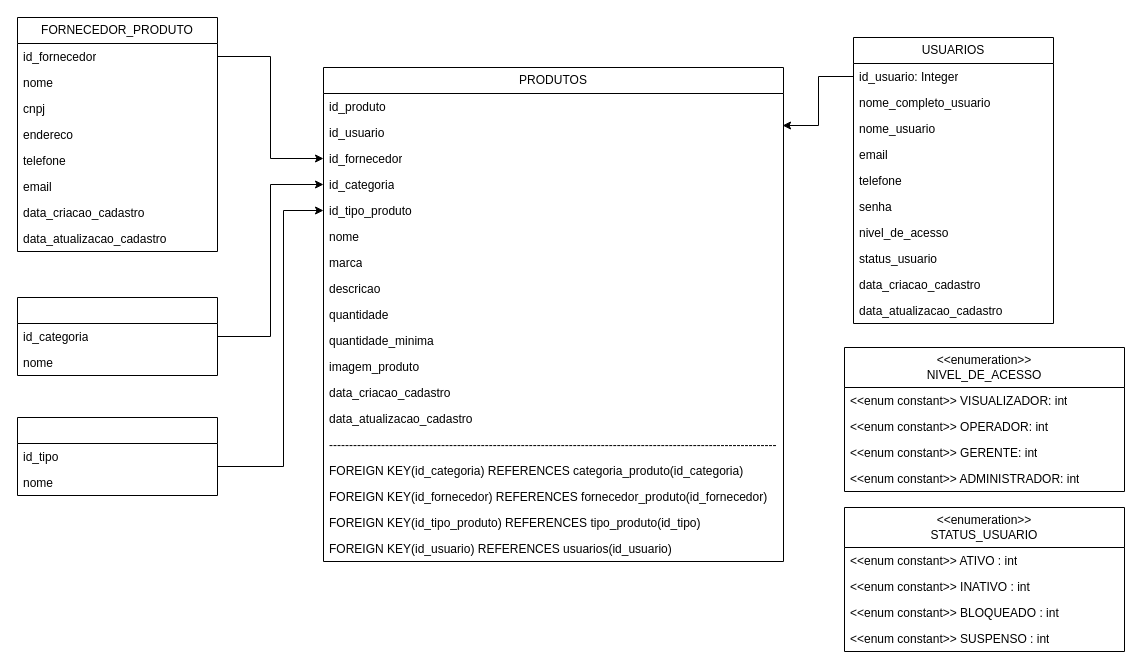
The diagram is 1142 pixels wide and 672 high, and some of its shapes have lost their labels. Here are the shapes that lost their labels. From the top down, the box of each, then its label:
(16, 296, 218, 376): CATEGORIA_PRODUTO
(16, 416, 218, 496): TIPO_PRODUTO
